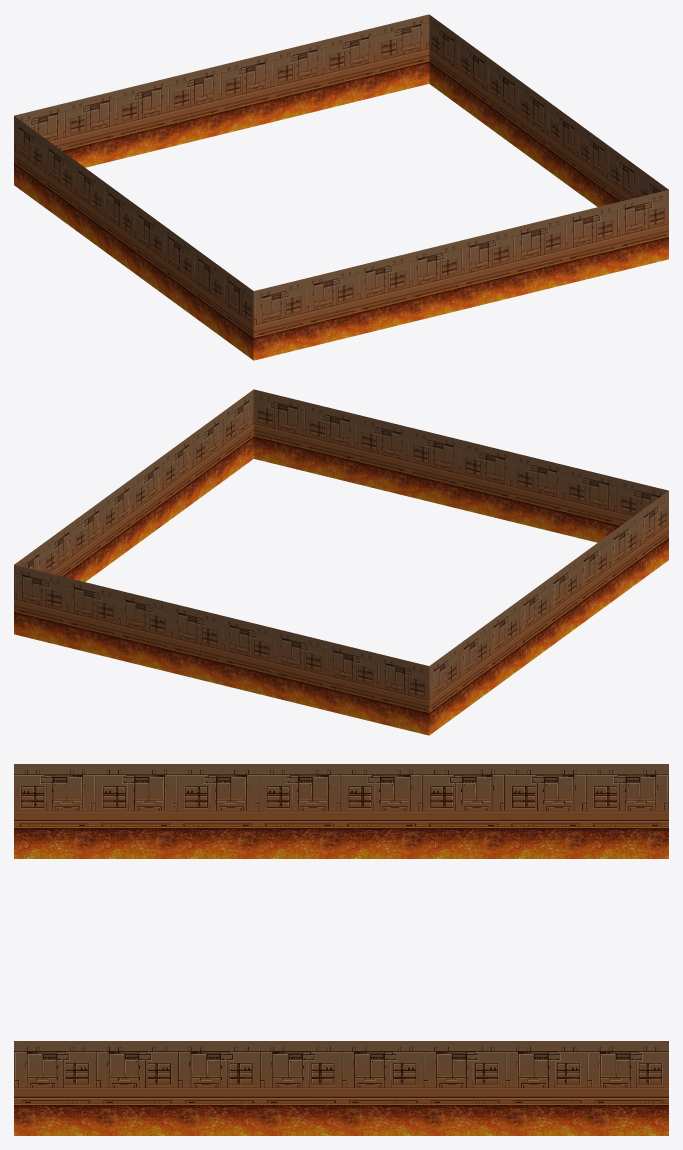
The picture shows the model from 3 angles, top to bottom: view 1: azimuth 30°, elevation 25°; view 2: azimuth 150°, elevation 25°; view 3: azimuth 270°, elevation 25°; orthographic projection. The views are drawn at different scales.
Parts seen in each view (by area): view 1: Joint_0_Object_0; view 2: Joint_0_Object_0; view 3: Joint_0_Object_0.
Part boxes in pixels (x1,y1,x2,y2): Joint_0_Object_0: (14,14,668,360); Joint_0_Object_0: (14,389,668,735); Joint_0_Object_0: (14,764,668,1135).
Size of the model in its own units: 10000 by 1600 by 10000.
